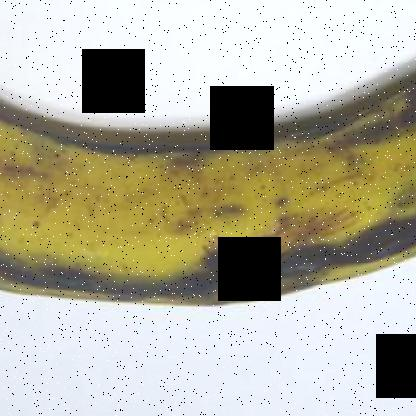overripe: (1, 48, 415, 345)
